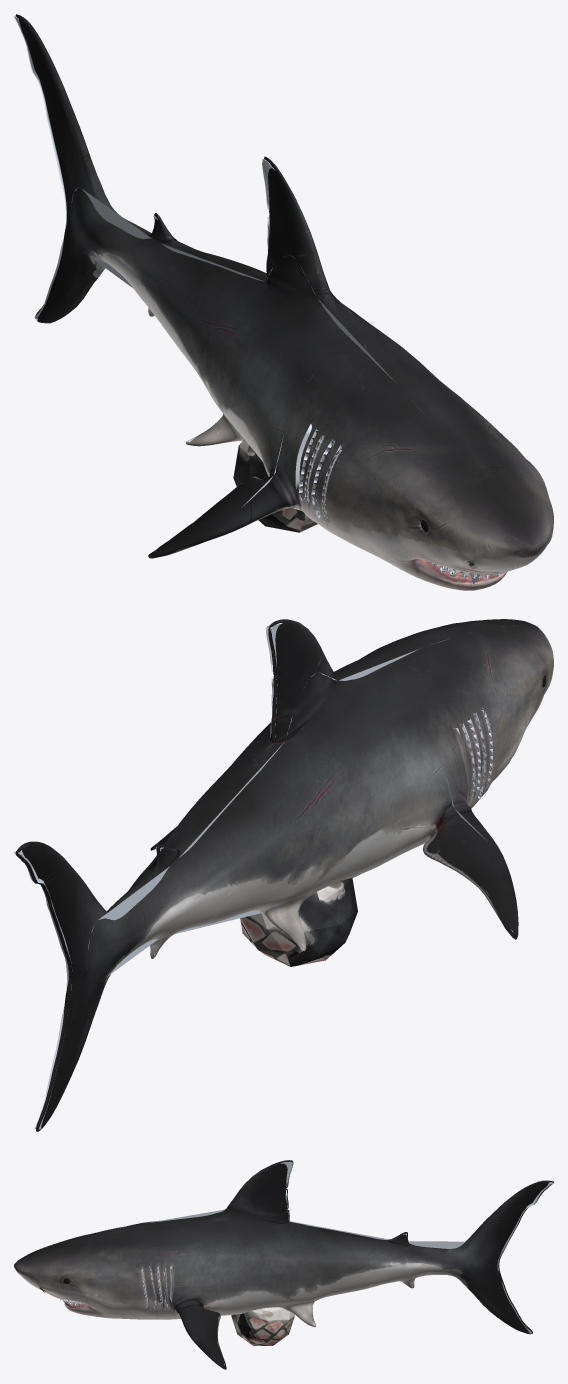
The model's file is shark.glb.
3 renders of one model, top to bottom at view 1: azimuth 30°, elevation 25°; view 2: azimuth 150°, elevation 25°; view 3: azimuth 270°, elevation 25°, orthographic. The views are drawn at different scales.
Visible parts, largest first — view 1: Part_001, Part_002, Part_004, Part_006, Part_005, Part_003, OriginalSkeleton; view 2: Part_002, Part_001, Part_006, Part_005, Part_003, OriginalSkeleton, Part_004; view 3: Part_005, Part_004, Part_006, OriginalSkeleton.
Part boxes in pixels (x1,y1,x2,y2): Part_001: (221,341,519,590); Part_002: (148,254,352,558); Part_004: (357,337,553,590); Part_006: (15,14,200,323); Part_005: (187,156,402,531); Part_003: (71,187,182,328); OriginalSkeleton: (14,16,500,583); Part_002: (202,671,518,966); Part_001: (374,625,553,859); Part_006: (15,831,199,1131); Part_005: (150,619,366,965); Part_003: (87,836,230,982); OriginalSkeleton: (14,623,539,1129); Part_004: (334,619,540,672); Part_005: (192,1160,369,1369); Part_004: (14,1217,191,1338); Part_006: (369,1180,553,1334); OriginalSkeleton: (57,1161,552,1365).
Bounding box in the file's own units: 6.83 × 6.38 × 16.92.
Materials: 2 (1 with a texture image).
